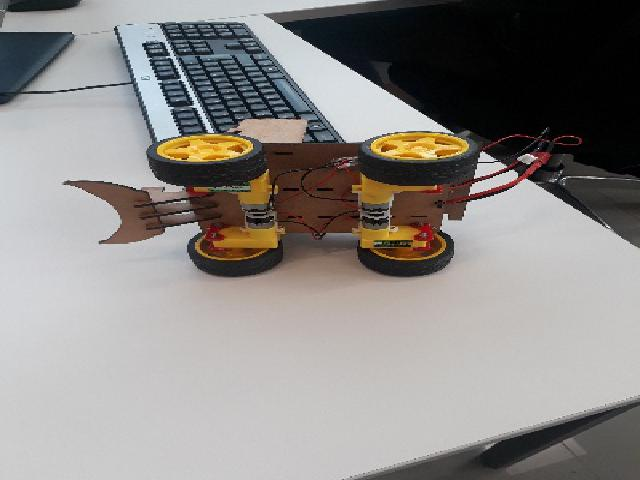Robot: (62, 119, 478, 277)
